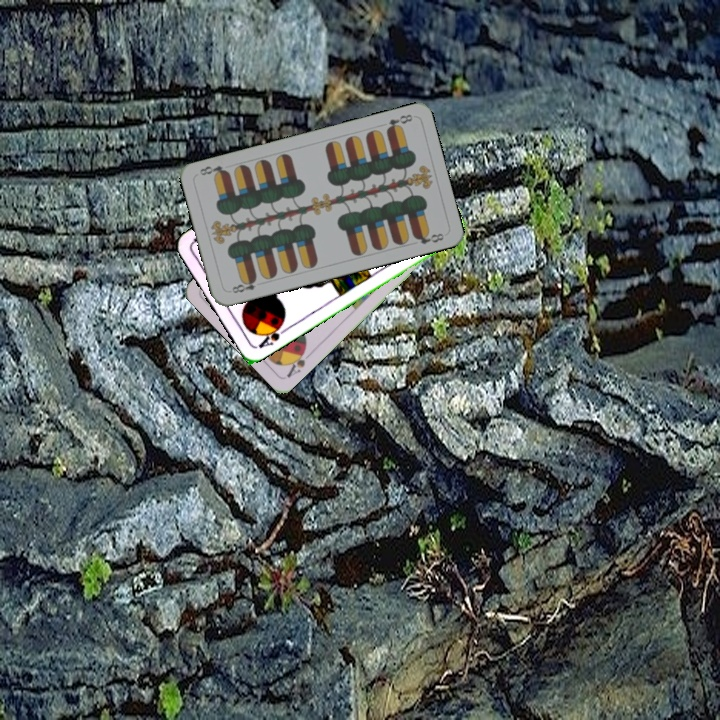E8: (382, 110, 415, 134), (225, 274, 259, 296)
SA: (254, 318, 290, 351), (282, 343, 309, 380)
